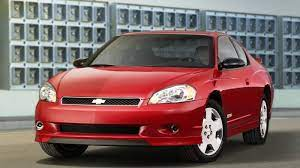car: (31, 28, 276, 163)
